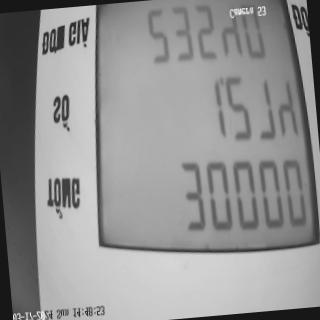screen: (74, 0, 320, 280)
